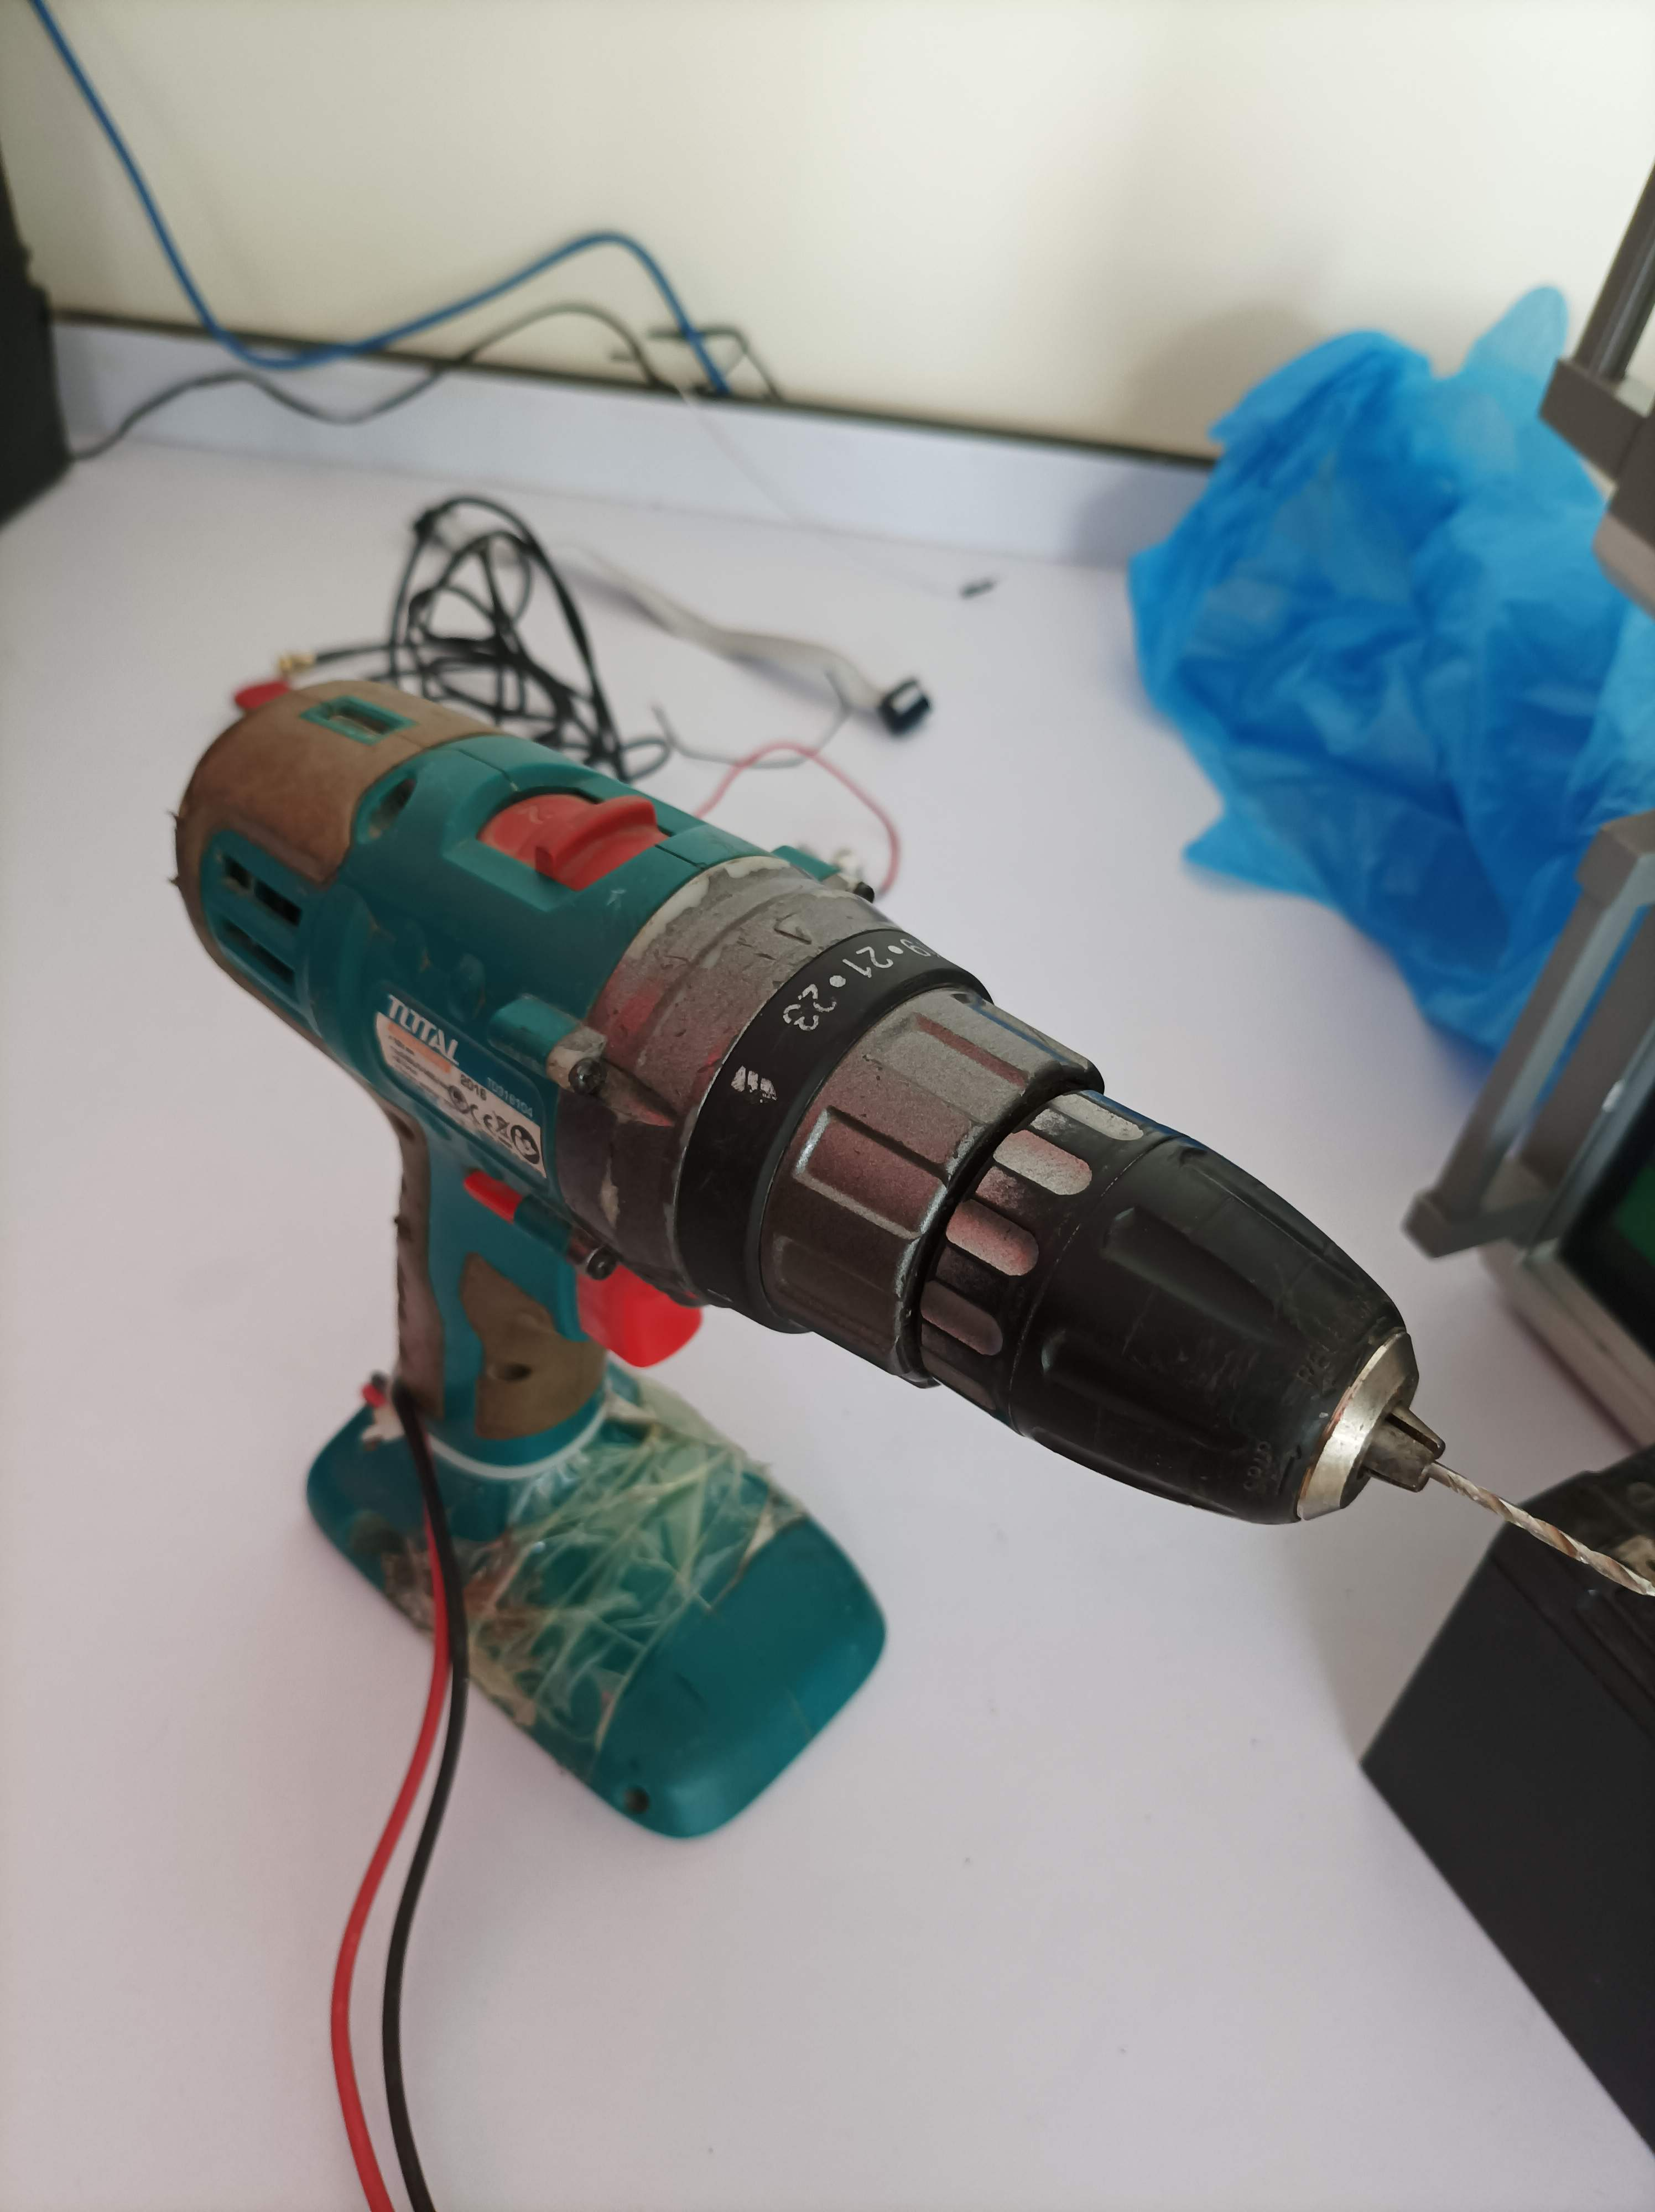driller: (158, 664, 1655, 1852)
